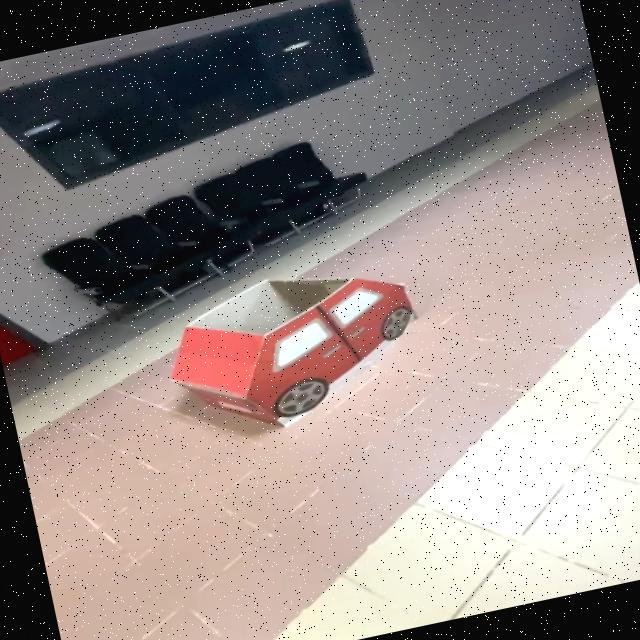red_car: (117, 223, 502, 465)
